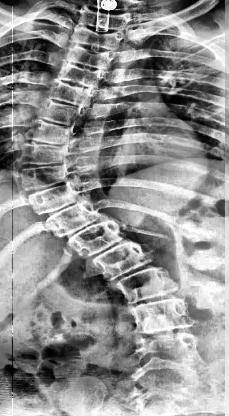Vertebrae: (90, 238, 154, 282), (115, 265, 180, 305), (134, 332, 204, 368), (131, 298, 197, 336), (66, 219, 126, 260), (45, 202, 102, 238), (26, 180, 80, 216), (67, 24, 129, 51), (55, 59, 105, 91), (75, 5, 135, 30), (19, 162, 69, 192), (63, 43, 116, 71), (47, 78, 92, 108), (25, 119, 76, 145), (37, 98, 83, 126), (19, 142, 71, 166)
